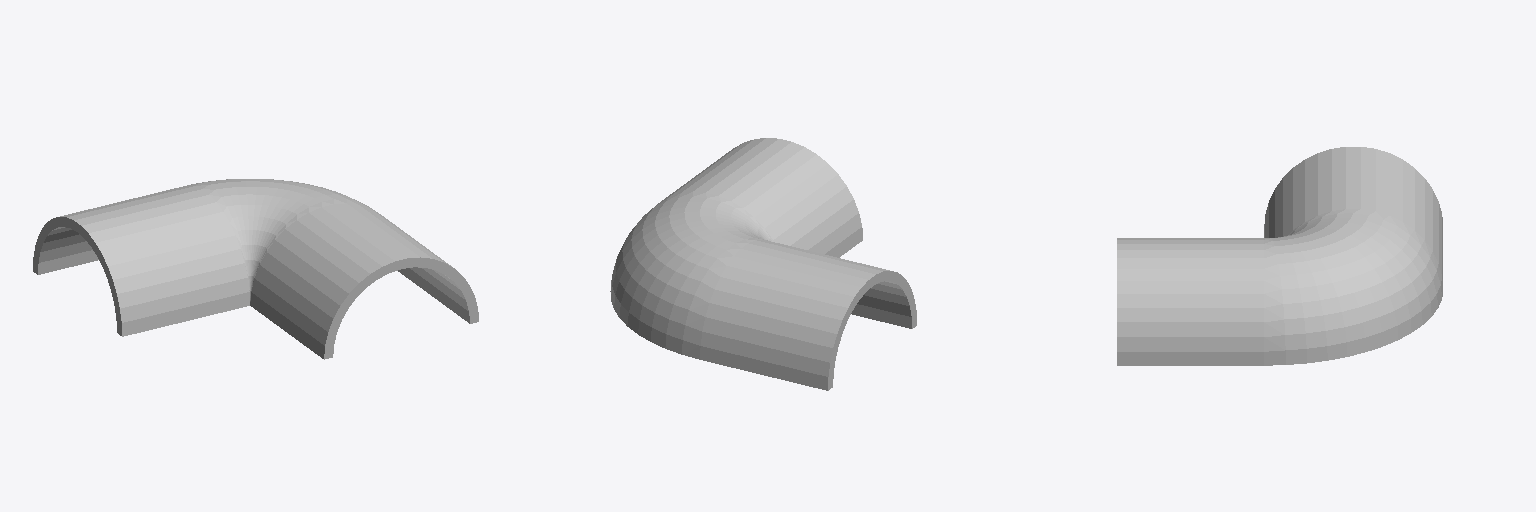
3 renders of one model, left to right at view 1: azimuth 30°, elevation 25°; view 2: azimuth 150°, elevation 25°; view 3: azimuth 270°, elevation 25°, orthographic.
Parts seen in each view (by area): view 1: Body1; view 2: Body1; view 3: Body1.
Boxes of the visible parts, box(x1,y1,x2,y2) form: Body1: box(33, 179, 478, 359); Body1: box(610, 138, 916, 390); Body1: box(1117, 147, 1442, 365).
Bounding box in the file's own units: 31 × 8.5 × 31.